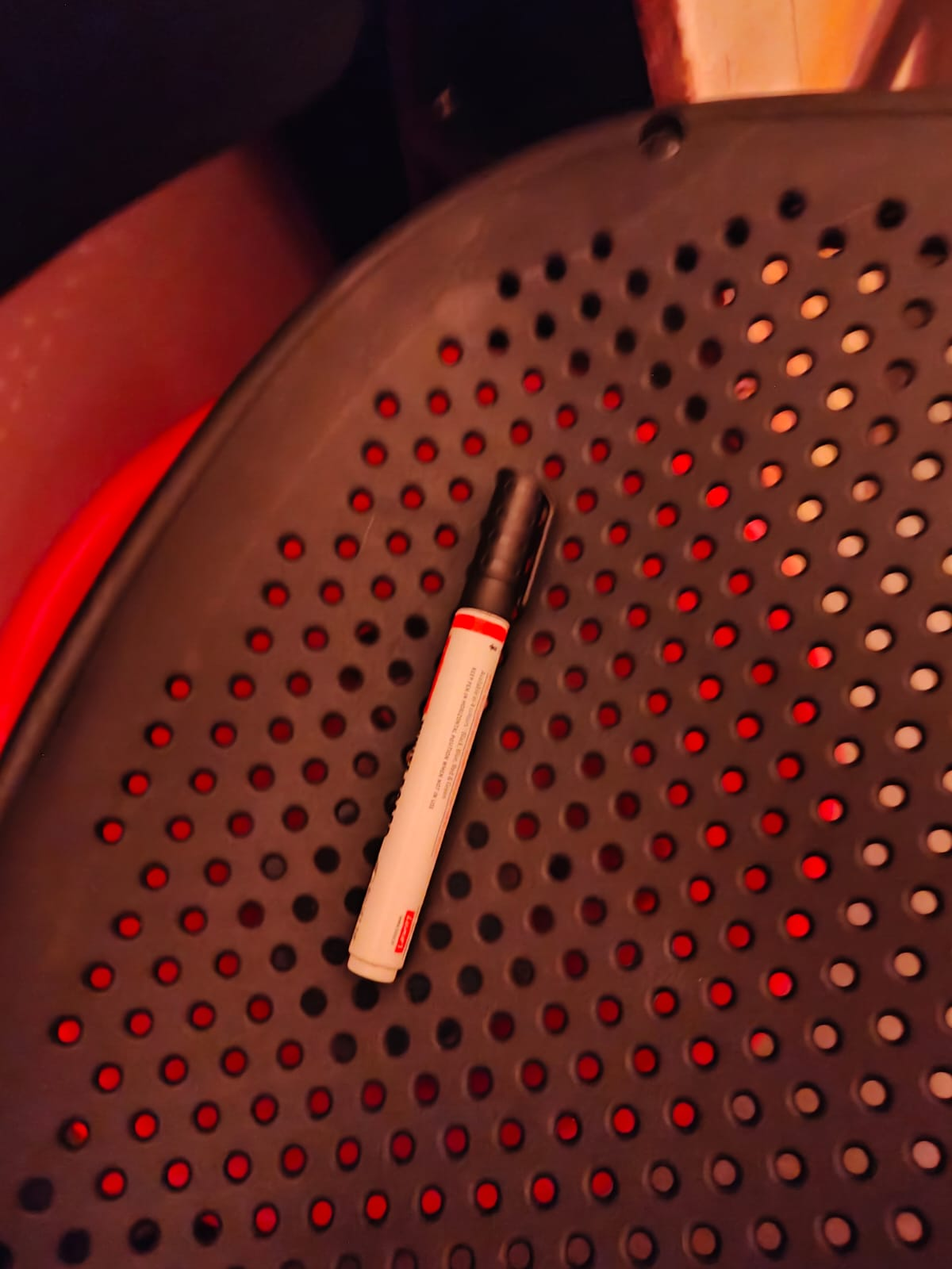case: (325, 435, 570, 993)
